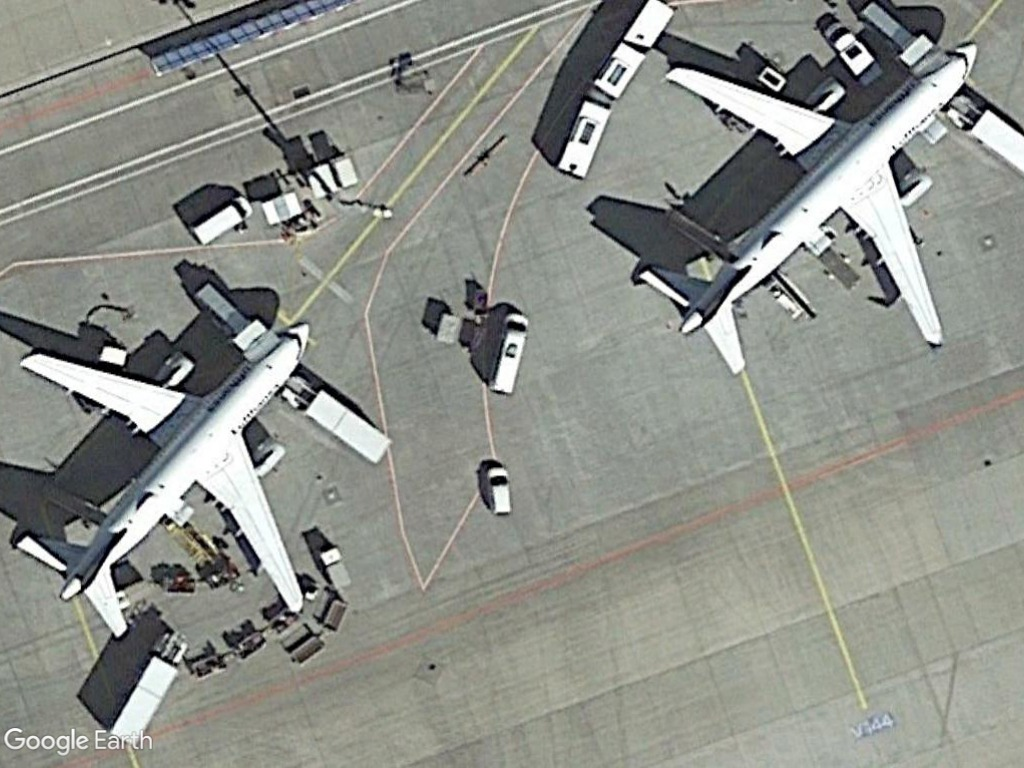airliner: (635, 38, 992, 380), (3, 307, 310, 637)
bus: (581, 0, 682, 106), (548, 95, 614, 183)
truck: (105, 630, 192, 753), (284, 375, 393, 468)
van: (484, 310, 528, 400), (189, 192, 255, 250), (482, 463, 512, 520)
